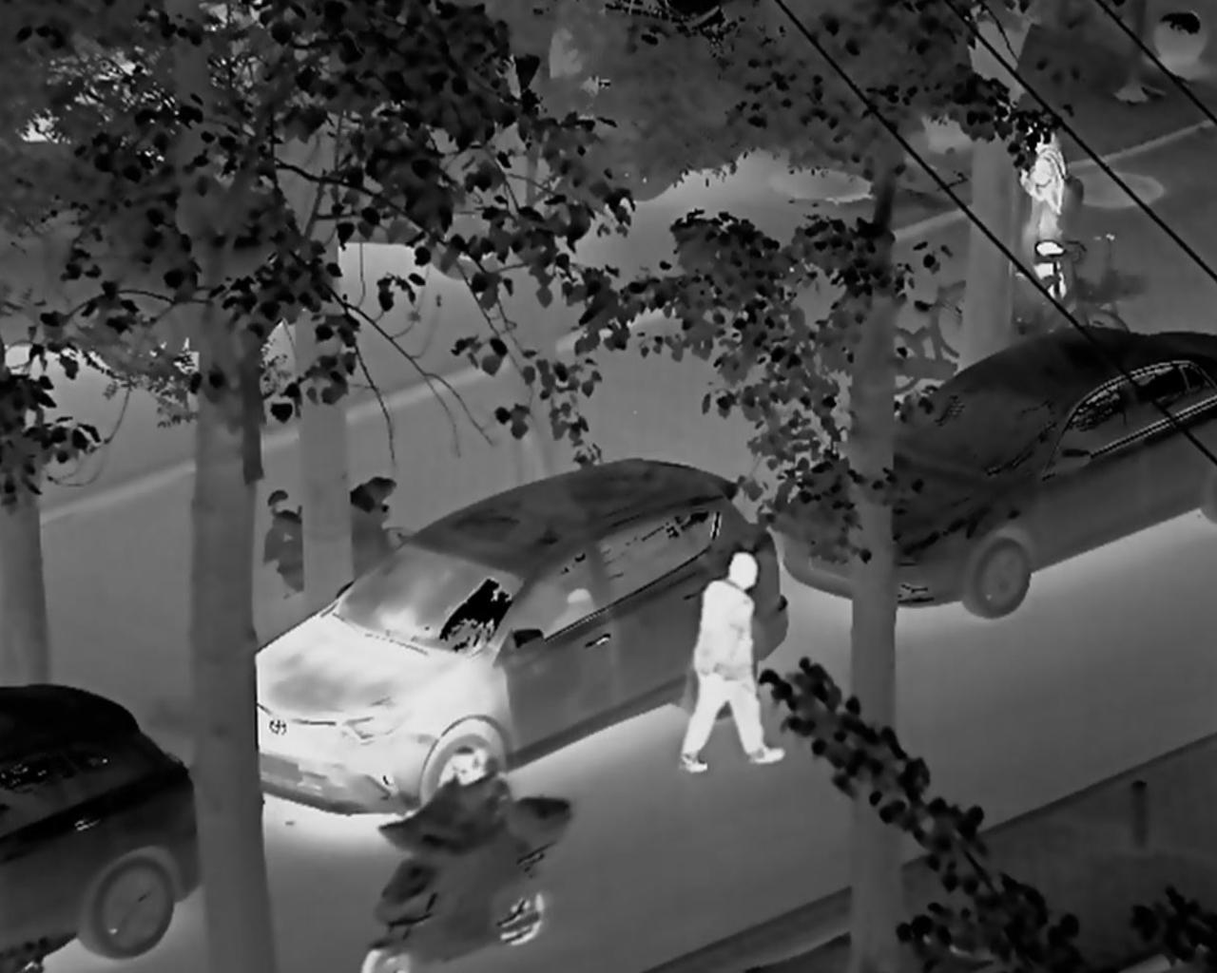person: (364, 737, 560, 960), (660, 525, 798, 793), (988, 110, 1093, 311)
